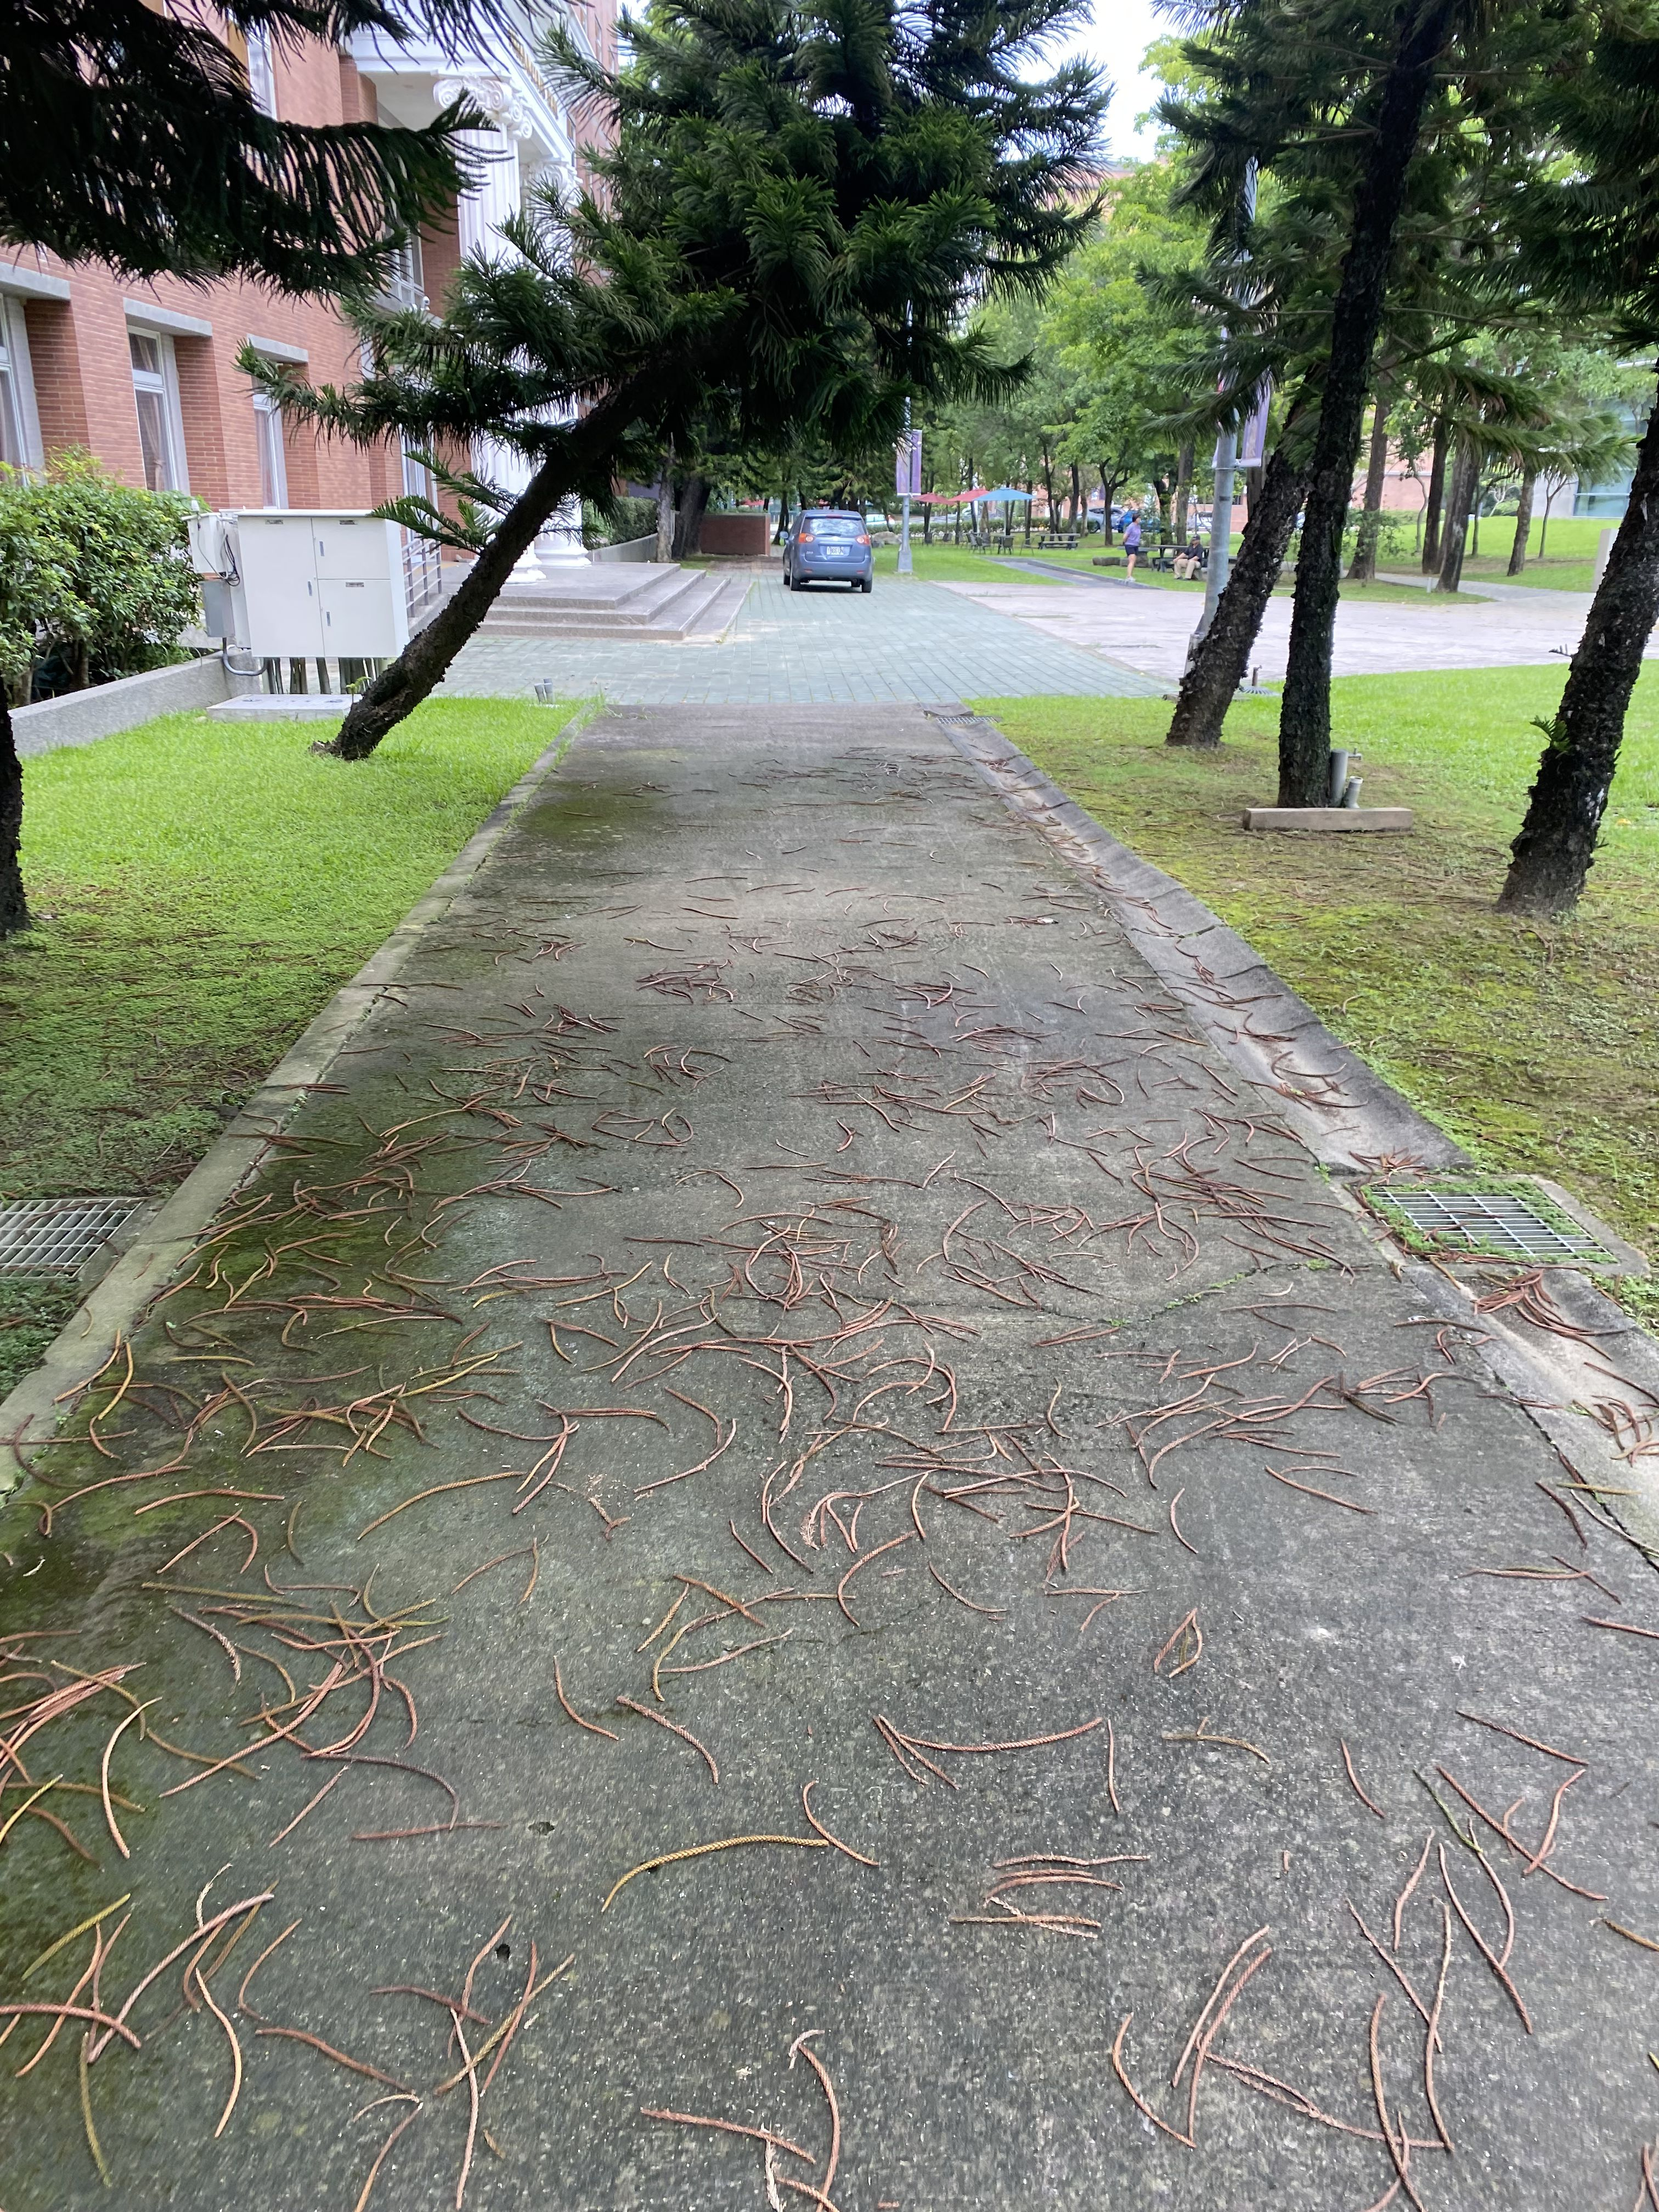0: (612, 531, 978, 801)
sidewalk: (7, 672, 1659, 2212)
